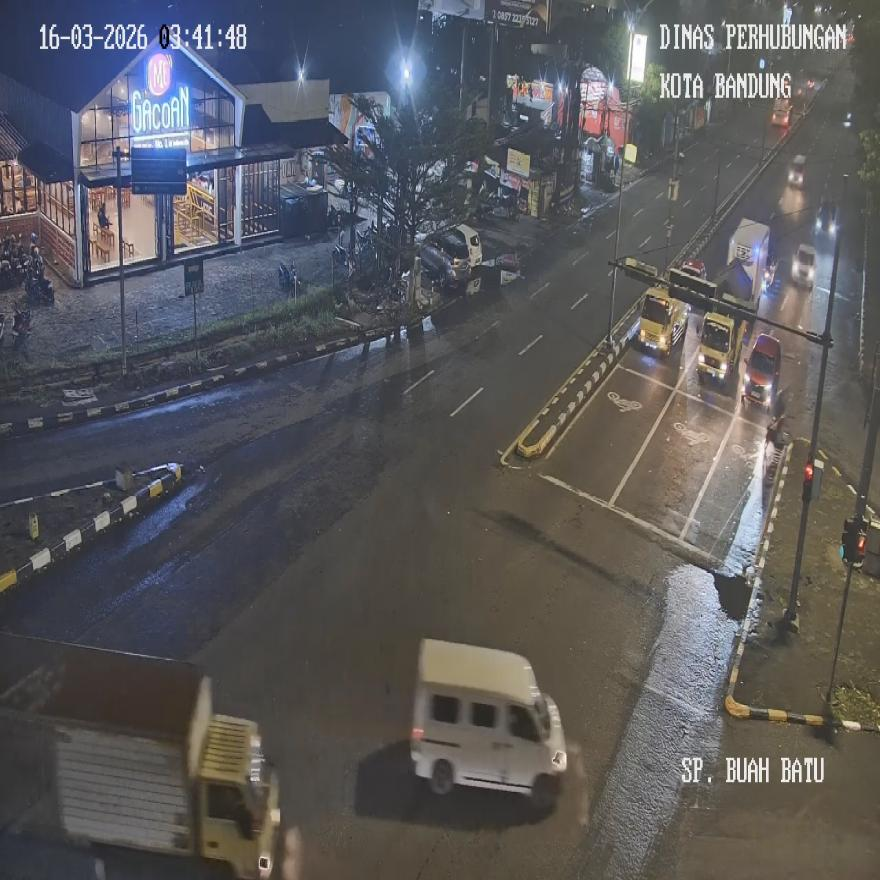Motor: (34, 644, 282, 878), (410, 637, 567, 803)
Truk: (25, 263, 54, 306), (10, 304, 32, 350), (277, 259, 298, 298), (763, 256, 779, 294)
